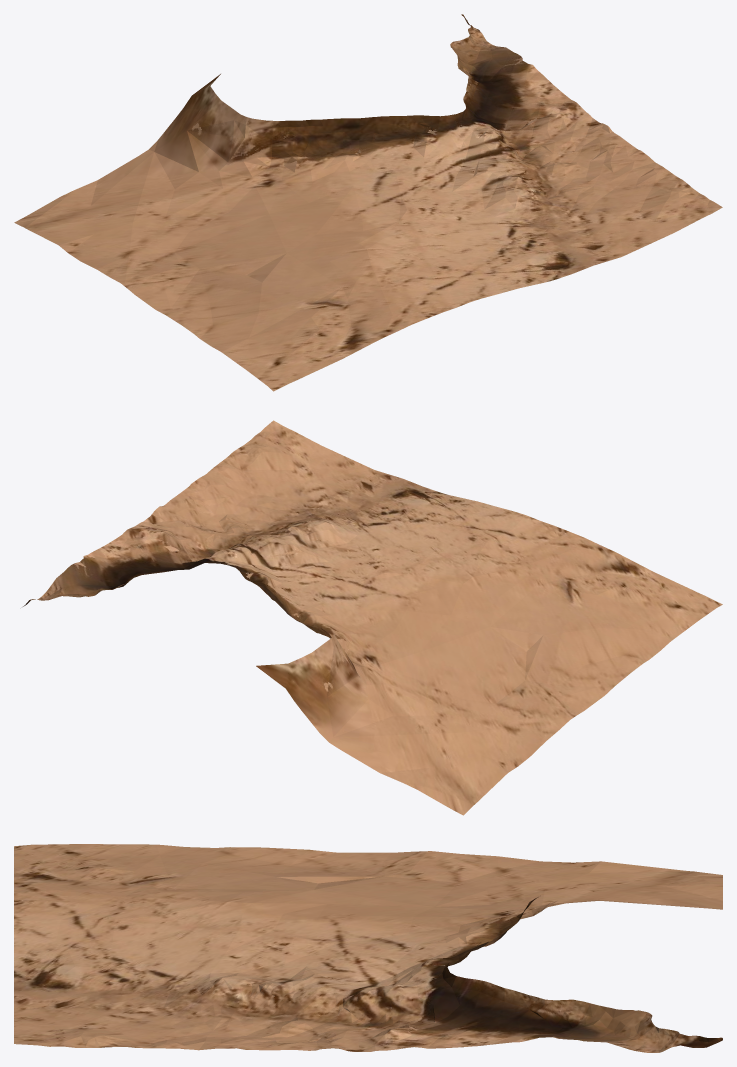
The picture shows the model from 3 angles, top to bottom: view 1: azimuth 30°, elevation 25°; view 2: azimuth 150°, elevation 25°; view 3: azimuth 270°, elevation 25°; orthographic projection. The views are drawn at different scales.
Size of the model in its own units: 1.04 by 0.2198 by 1.04.
Materials: 2 (2 with a texture image).
